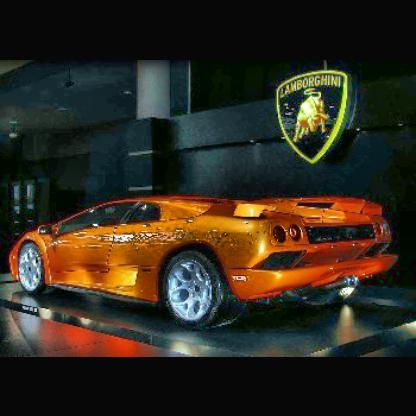Lamborghini Diablo Coupe 2001: (10, 188, 416, 344)
